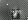person: (13, 10, 21, 20)
